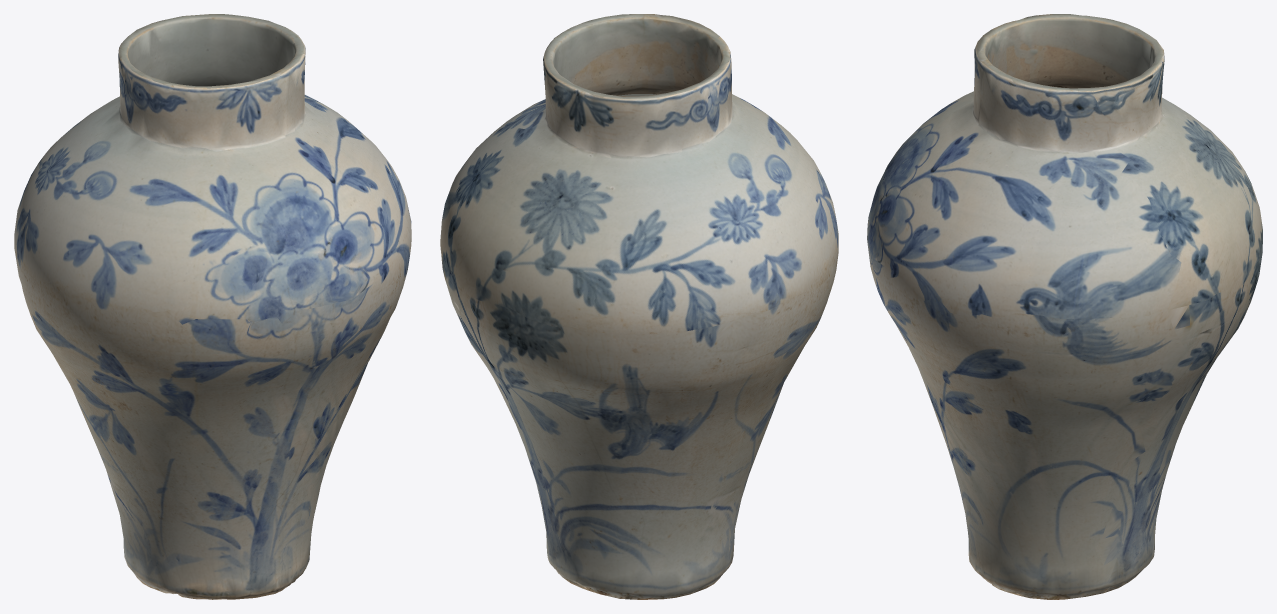
File: L2_Antique13.fbx
The picture shows the model from 3 angles, left to right: view 1: azimuth 30°, elevation 25°; view 2: azimuth 150°, elevation 25°; view 3: azimuth 270°, elevation 25°; orthographic projection.
Parts seen in each view (by area): view 1: L2_Anti; view 2: L2_Anti; view 3: L2_Anti.
Boxes of the visible parts, x1,y1,x2,y2 form: L2_Anti: (14,14,411,599); L2_Anti: (440,14,838,599); L2_Anti: (867,14,1262,599).
Bounding box in the file's own units: 0.1773 × 0.2548 × 0.1767.
Materials: 1 (1 with a texture image).
